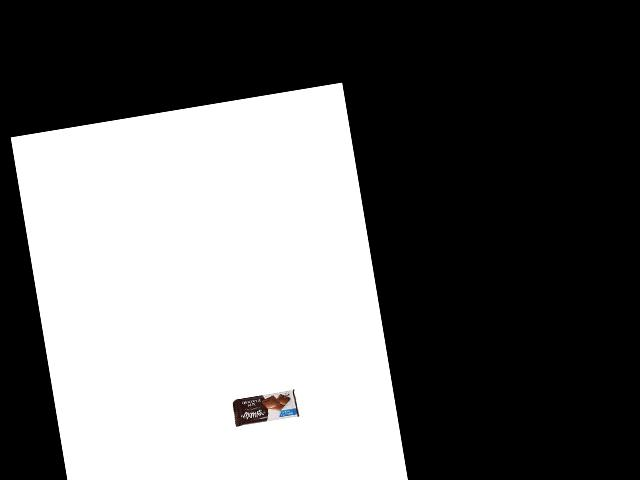chocolate: (232, 387, 300, 428)
